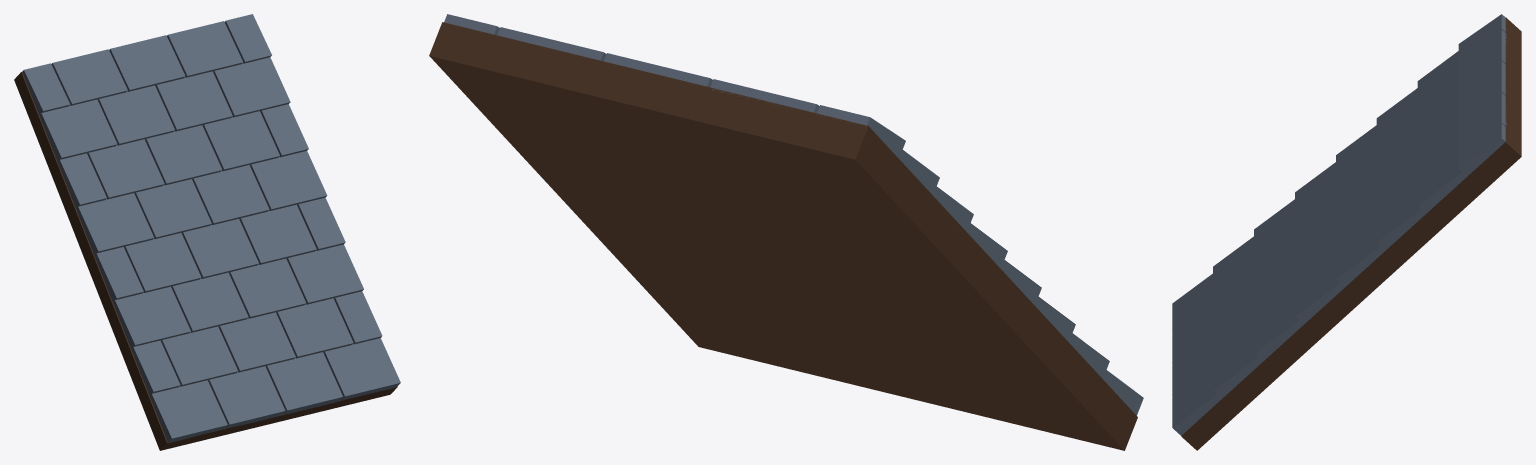
File: roof_slate_lod0.glb
The picture shows the model from 3 angles, left to right: view 1: azimuth 30°, elevation 25°; view 2: azimuth 150°, elevation 25°; view 3: azimuth 270°, elevation 25°; orthographic projection. The views are drawn at different scales.
Visible parts, largest first — view 1: roof_slate; view 2: roof_slate; view 3: roof_slate.
Part boxes in pixels (left/top/right/bottom): roof_slate: left=14, top=14, right=400, bottom=450; roof_slate: left=429, top=14, right=1143, bottom=450; roof_slate: left=1172, top=14, right=1521, bottom=450.
Bounding box in the file's own units: 2.1 × 2.44 × 2.48.
